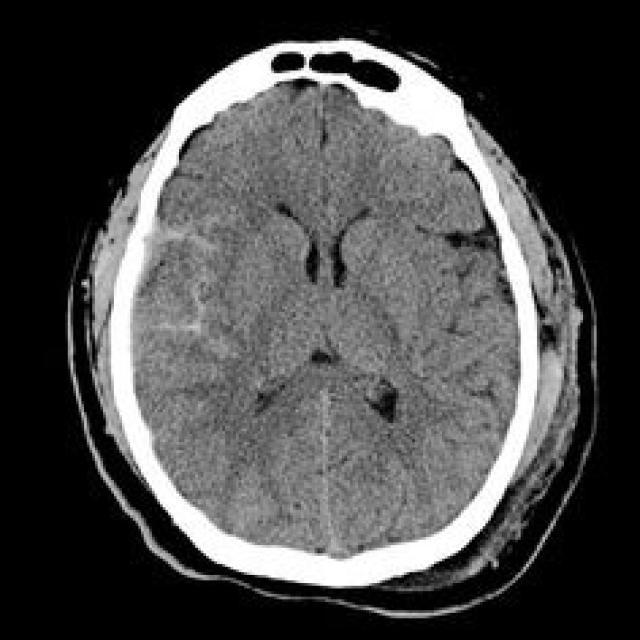No_Tumor: (108, 40, 538, 586)
